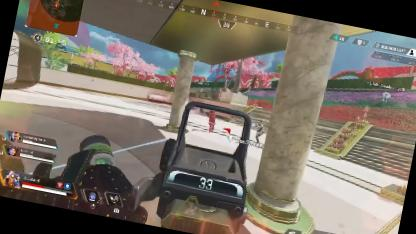Target: (205, 109, 218, 132), (252, 119, 265, 142)
